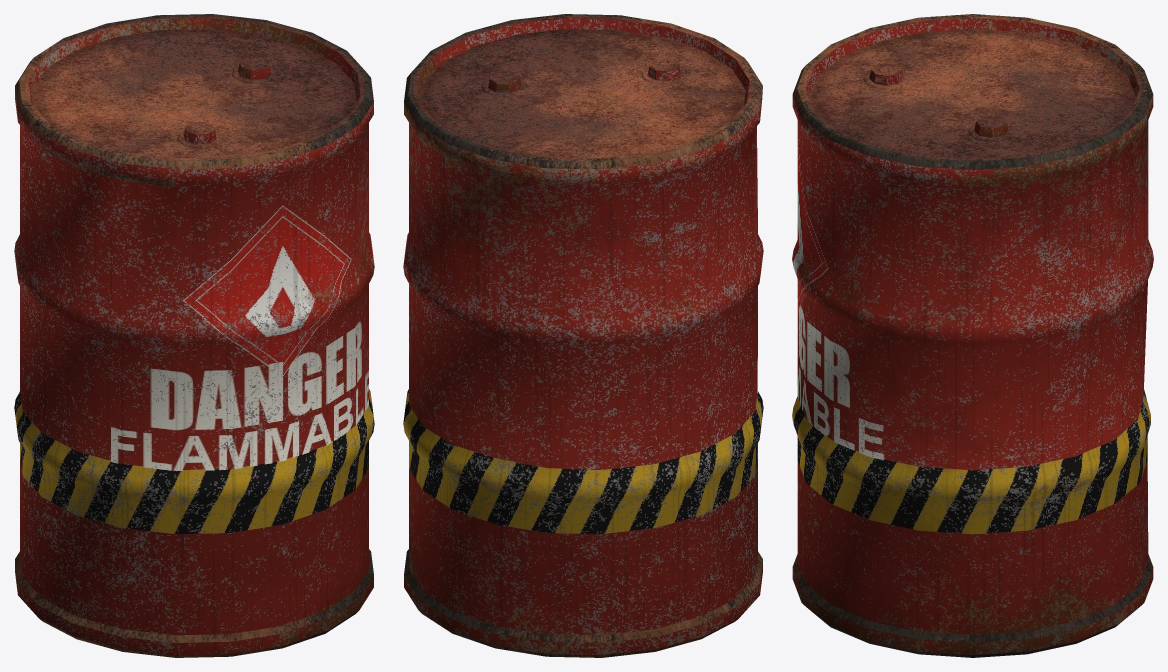
File: barrel_explosive.glb
The picture shows the model from 3 angles, left to right: view 1: azimuth 30°, elevation 25°; view 2: azimuth 150°, elevation 25°; view 3: azimuth 270°, elevation 25°; orthographic projection.
Parts seen in each view (by area): view 1: barrel_explosive; view 2: barrel_explosive; view 3: barrel_explosive.
Boxes of the visible parts, x1,y1,x2,y2 form: barrel_explosive: (14,14,374,657); barrel_explosive: (403,14,763,657); barrel_explosive: (792,14,1153,657).
Size of the model in its own units: 0.586 by 0.886 by 0.586.
1 material, 1 textured.
